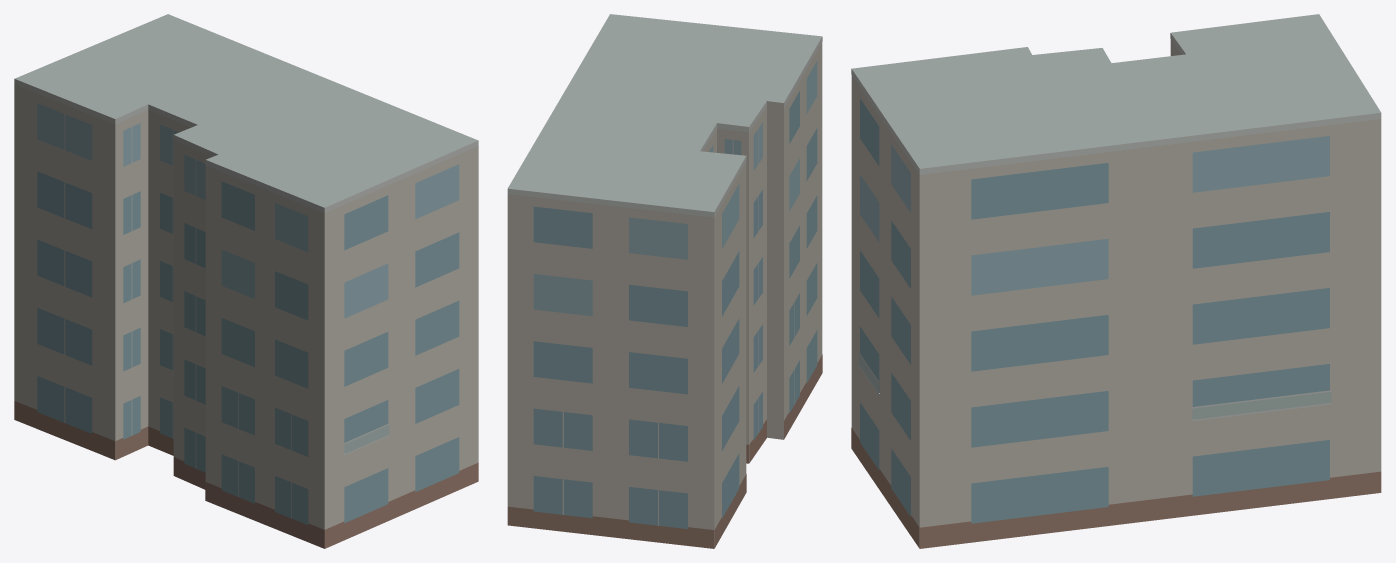
The model's file is survey-upis-32687765.glb.
The picture shows the model from 3 angles, left to right: view 1: azimuth 30°, elevation 25°; view 2: azimuth 150°, elevation 25°; view 3: azimuth 270°, elevation 25°; orthographic projection. The views are drawn at different scales.
Parts seen in each view (by area): view 1: survey-upis-32687765.tmp; view 2: survey-upis-32687765.tmp; view 3: survey-upis-32687765.tmp.
Boxes of the visible parts, bbox=[...] form: survey-upis-32687765.tmp: bbox=[14, 14, 478, 548]; survey-upis-32687765.tmp: bbox=[507, 14, 822, 548]; survey-upis-32687765.tmp: bbox=[851, 14, 1381, 548].
Bounding box in the file's own units: 13.38 × 15.3 × 19.35.
